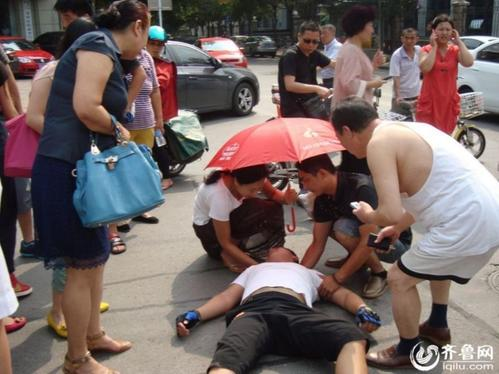10+: (1, 1, 499, 373)
down: (171, 241, 386, 374)
